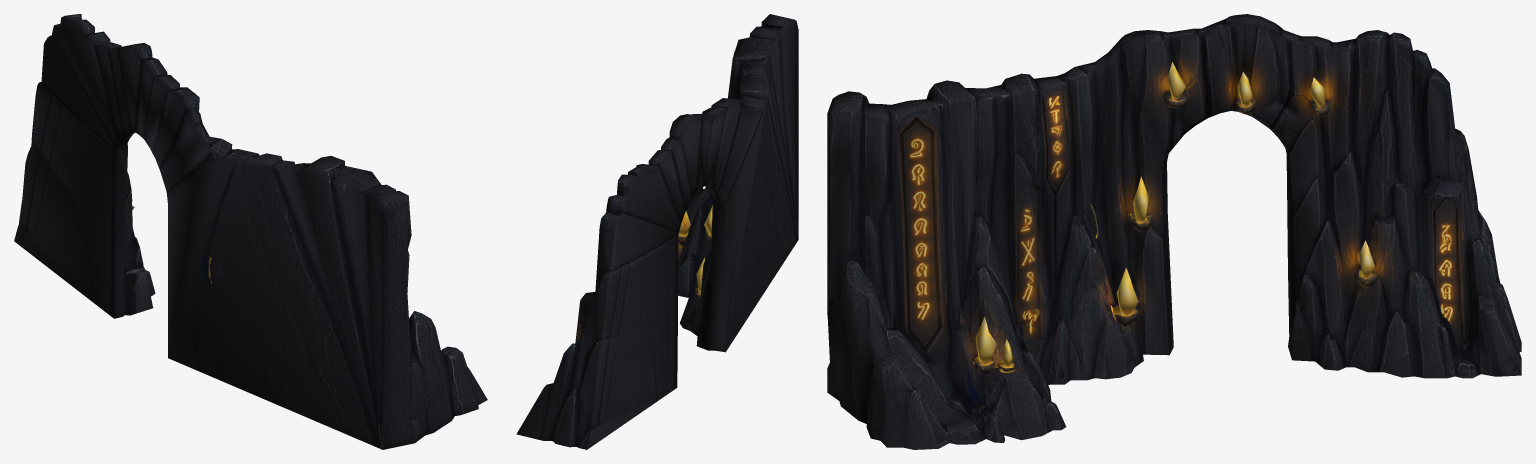
The model's file is fantasy+stone+archway+3d+model.fbx.
3 renders of one model, left to right at view 1: azimuth 30°, elevation 25°; view 2: azimuth 150°, elevation 25°; view 3: azimuth 270°, elevation 25°, orthographic. The views are drawn at different scales.
Parts seen in each view (by area): view 1: meshes[0]; view 2: meshes[0]; view 3: meshes[0].
Part boxes in pixels (left/top/right/bottom): meshes[0]: left=14, top=14, right=487, bottom=449; meshes[0]: left=516, top=14, right=798, bottom=449; meshes[0]: left=827, top=14, right=1521, bottom=449.
Size of the model in its own units: 0.3809 by 0.5137 by 0.998.
